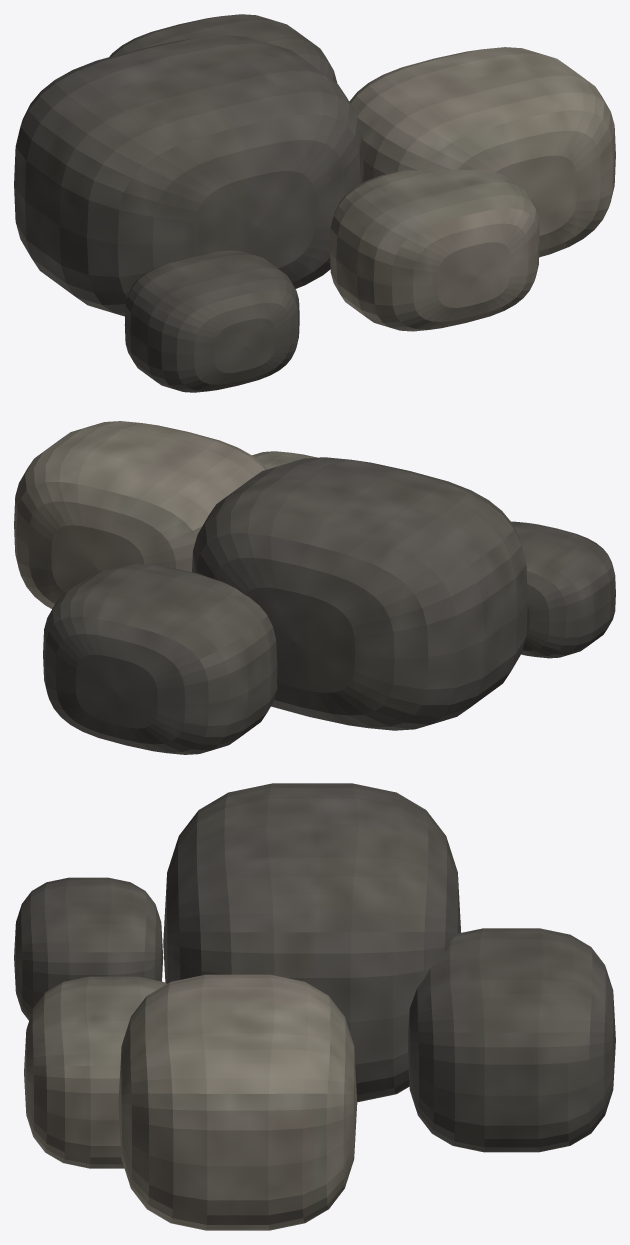
File: pedras.glb
The picture shows the model from 3 angles, top to bottom: view 1: azimuth 30°, elevation 25°; view 2: azimuth 150°, elevation 25°; view 3: azimuth 270°, elevation 25°; orthographic projection. The views are drawn at different scales.
Visible parts, largest first — view 1: pedras_pedra_escura, pedras_pedra_rio; view 2: pedras_pedra_escura, pedras_pedra_rio; view 3: pedras_pedra_escura, pedras_pedra_rio.
Boxes of the visible parts, x1,y1,x2,y2 form: pedras_pedra_escura: (14,14,363,392); pedras_pedra_rio: (329,47,615,331); pedras_pedra_escura: (43,457,615,754); pedras_pedra_rio: (14,421,316,608); pedras_pedra_escura: (14,783,615,1152); pedras_pedra_rio: (24,974,357,1230).
Size of the model in its own units: 0.134 by 0.0517 by 0.121.
Materials: 2 (2 with a texture image).
